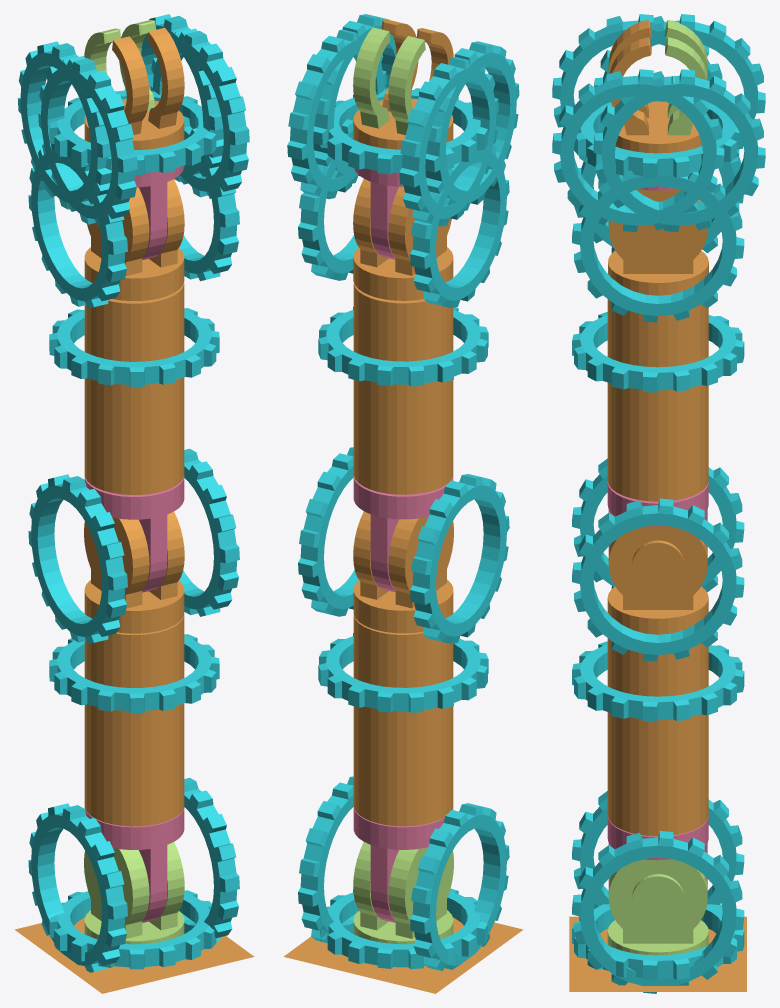
The model's file is MultiArm_08.fbx.
3 renders of one model, left to right at view 1: azimuth 30°, elevation 25°; view 2: azimuth 150°, elevation 25°; view 3: azimuth 270°, elevation 25°, orthographic.
Visible parts, largest first — view 1: UpperArm, Wrist, EB_Control, RP_Control, BS_Control, HA_Control, LP_Control, WR_Control, UA_Control, Shoulder Joint, SF_Control, PB_Control (+7 smaller); view 2: UpperArm, Wrist, EB_Control, LP_Control, BS_Control, HA_Control, RP_Control, WR_Control, UA_Control, Shoulder Joint, SF_Control, LeftPincher (+7 smaller); view 3: UpperArm, Wrist, EB_Control, BS_Control, RP_Control, LP_Control, HA_Control, Shoulder Joint, WR_Control, UA_Control, PB_Control, Plane (+6 smaller).
Part boxes in pixels (x1,y1,x2,y2): UpperArm: [84, 511, 184, 826]; Wrist: [84, 179, 184, 494]; EB_Control: [28, 448, 239, 644]; RP_Control: [38, 29, 249, 226]; BS_Control: [28, 777, 239, 972]; HA_Control: [28, 116, 239, 308]; LP_Control: [17, 14, 223, 209]; WR_Control: [49, 308, 219, 386]; UA_Control: [49, 634, 219, 713]; Shoulder Joint: [84, 842, 184, 944]; SF_Control: [49, 890, 216, 969]; PB_Control: [49, 88, 216, 175]; UpperArm: [353, 511, 453, 826]; Wrist: [353, 179, 453, 494]; EB_Control: [298, 447, 509, 643]; LP_Control: [287, 29, 498, 226]; BS_Control: [298, 776, 509, 971]; HA_Control: [298, 119, 509, 308]; RP_Control: [313, 14, 519, 210]; WR_Control: [318, 306, 488, 386]; UA_Control: [318, 633, 488, 712]; Shoulder Joint: [353, 842, 453, 944]; SF_Control: [319, 888, 487, 969]; LeftPincher: [353, 27, 425, 134]; UpperArm: [607, 526, 708, 836]; Wrist: [607, 189, 708, 501]; EB_Control: [572, 458, 744, 661]; BS_Control: [572, 791, 744, 993]; RP_Control: [552, 14, 724, 232]; LP_Control: [593, 14, 765, 232]; HA_Control: [572, 128, 744, 322]; Shoulder Joint: [607, 859, 708, 955]; WR_Control: [572, 312, 744, 392]; UA_Control: [572, 641, 744, 721]; PB_Control: [574, 99, 743, 178]; Plane: [569, 916, 746, 991].
Bounding box in the file's own units: 352 × 2033 × 423.
